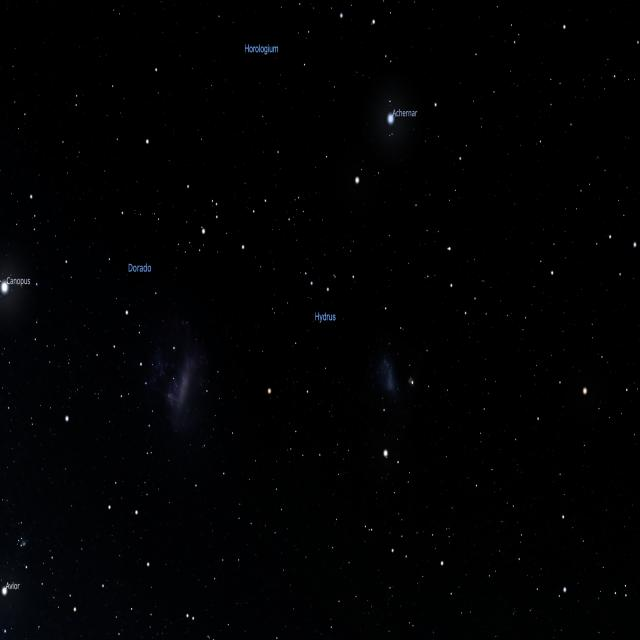Hydrus: (265, 174, 392, 462)
